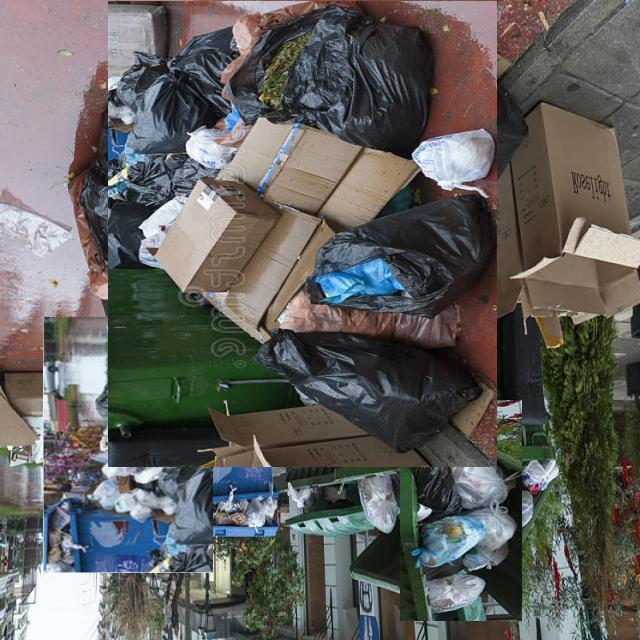Trashbag: (239, 2, 435, 156), (251, 333, 488, 457), (299, 190, 492, 321), (114, 22, 246, 166), (77, 153, 164, 274)
